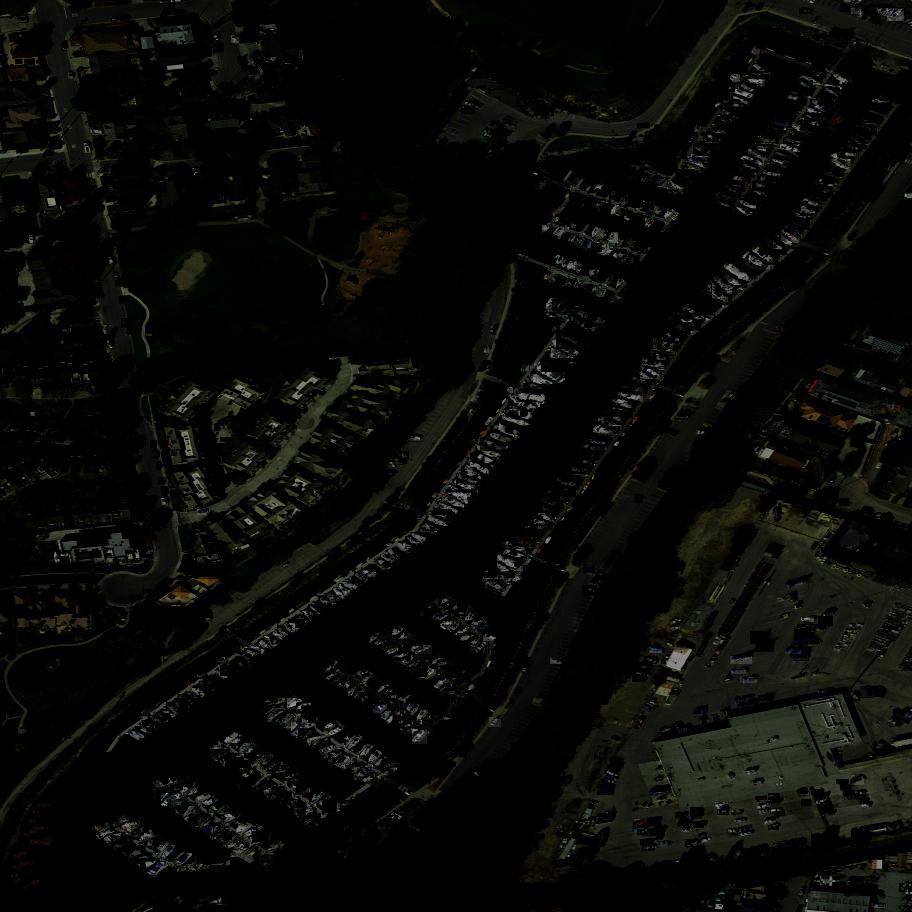large-vehicle: (750, 631, 769, 646), (785, 579, 809, 590), (755, 640, 775, 653), (785, 642, 802, 656), (795, 628, 812, 641), (860, 684, 874, 699), (731, 656, 752, 665), (791, 648, 808, 659), (793, 637, 812, 645), (740, 703, 759, 711), (873, 686, 884, 698), (735, 697, 751, 705), (793, 655, 809, 662), (731, 669, 747, 676), (741, 677, 757, 684), (758, 695, 773, 702), (693, 710, 706, 713)
ship: (257, 691, 299, 714), (574, 306, 610, 329), (725, 260, 755, 286), (704, 281, 733, 306), (534, 362, 565, 385), (556, 329, 587, 352), (499, 412, 534, 432), (751, 242, 779, 267), (466, 456, 495, 480), (509, 393, 539, 415), (570, 313, 599, 335), (674, 309, 701, 332), (760, 235, 788, 257), (452, 478, 481, 499), (551, 339, 581, 359), (80, 752, 110, 772), (713, 274, 736, 299), (153, 773, 186, 790), (476, 444, 504, 463), (827, 110, 850, 133), (668, 315, 692, 337), (442, 492, 467, 513), (683, 304, 708, 325), (742, 252, 771, 270), (497, 554, 522, 574), (490, 560, 516, 579), (320, 657, 341, 680), (608, 401, 633, 420), (426, 514, 452, 532), (481, 575, 506, 593), (723, 273, 748, 291), (527, 514, 553, 531), (480, 437, 506, 454), (437, 502, 464, 518), (146, 860, 168, 879), (504, 540, 530, 556), (462, 466, 487, 482), (175, 851, 196, 870), (604, 409, 626, 427), (506, 407, 534, 421), (844, 883, 872, 897), (470, 452, 496, 467), (488, 431, 514, 446), (267, 707, 287, 726), (534, 507, 555, 525), (209, 798, 230, 816), (161, 841, 179, 862), (829, 159, 851, 176), (774, 233, 796, 250), (791, 123, 813, 140), (112, 836, 134, 853), (516, 391, 547, 403), (541, 359, 567, 373), (155, 786, 174, 805), (345, 732, 363, 752), (403, 633, 423, 651), (128, 845, 146, 865), (224, 808, 245, 825), (490, 425, 522, 436), (830, 151, 852, 167), (752, 62, 774, 78), (456, 473, 481, 487), (519, 529, 542, 544), (233, 761, 251, 780), (162, 793, 181, 811), (641, 362, 661, 379), (236, 819, 256, 836), (810, 99, 834, 113), (750, 185, 771, 201), (218, 752, 239, 768), (97, 828, 119, 843), (598, 417, 623, 430), (618, 391, 643, 404), (502, 549, 527, 562), (174, 804, 199, 817), (285, 716, 302, 735), (714, 195, 733, 212), (181, 778, 198, 797), (799, 118, 822, 132), (294, 808, 317, 822), (271, 765, 294, 779), (557, 482, 577, 498), (274, 713, 294, 729), (346, 762, 367, 777), (725, 178, 746, 193), (757, 175, 781, 188), (741, 154, 765, 167), (512, 535, 534, 549), (635, 369, 657, 383), (788, 216, 810, 230), (299, 727, 316, 745), (140, 827, 157, 845), (226, 757, 244, 774), (183, 807, 200, 825), (255, 776, 272, 794), (664, 330, 683, 346), (722, 183, 741, 199), (688, 156, 707, 172), (260, 752, 276, 771), (198, 816, 214, 835), (277, 790, 293, 809), (296, 777, 312, 796), (555, 477, 580, 489), (329, 726, 349, 741), (613, 397, 636, 410), (548, 352, 575, 363), (816, 179, 837, 193), (739, 198, 760, 212), (144, 835, 165, 849), (189, 814, 210, 828), (270, 786, 287, 803), (642, 358, 666, 370), (292, 722, 310, 738), (849, 134, 867, 150), (802, 67, 826, 79), (781, 228, 799, 244), (238, 738, 254, 756), (132, 824, 148, 842), (266, 839, 284, 855), (543, 497, 565, 510), (90, 822, 112, 835), (122, 820, 144, 833), (360, 771, 379, 786), (245, 825, 264, 840), (739, 160, 759, 174), (676, 168, 696, 182), (547, 491, 570, 503), (780, 144, 803, 156), (216, 834, 239, 846), (308, 711, 329, 724), (735, 205, 756, 218), (116, 815, 137, 828), (359, 744, 376, 760), (860, 121, 877, 137), (412, 729, 427, 747), (822, 86, 840, 101), (739, 81, 757, 96), (733, 95, 751, 110), (277, 623, 292, 641), (846, 879, 873, 889), (267, 758, 282, 776), (301, 706, 320, 720), (312, 738, 331, 752), (527, 383, 551, 394), (652, 345, 676, 356), (811, 186, 833, 198), (733, 89, 755, 101), (622, 384, 648, 394), (172, 776, 192, 789), (374, 754, 390, 770), (328, 748, 344, 764), (421, 603, 437, 619), (167, 701, 183, 717), (291, 802, 307, 818), (322, 799, 338, 815), (354, 767, 369, 784), (326, 669, 343, 684), (359, 691, 374, 708), (385, 710, 400, 727), (235, 655, 250, 672), (227, 837, 244, 852), (154, 839, 171, 854), (888, 8, 905, 23), (375, 557, 392, 572), (530, 375, 553, 386), (574, 457, 595, 469), (453, 626, 471, 640), (342, 756, 356, 774), (419, 669, 437, 683), (853, 129, 871, 143), (832, 74, 850, 88), (796, 78, 814, 92), (802, 198, 823, 210), (694, 144, 713, 157), (667, 181, 686, 194), (204, 823, 223, 836), (584, 439, 608, 449), (657, 340, 681, 350), (368, 749, 383, 765), (785, 137, 805, 149), (762, 129, 782, 141), (105, 833, 125, 845), (204, 676, 220, 691), (259, 637, 274, 653), (187, 787, 207, 799), (134, 853, 154, 865), (210, 741, 225, 757), (168, 799, 188, 811), (281, 799, 301, 811), (310, 789, 326, 804), (616, 286, 630, 303), (178, 693, 195, 707), (231, 815, 248, 829), (240, 768, 257, 782), (449, 602, 467, 615), (434, 613, 452, 626), (215, 806, 233, 819), (354, 571, 372, 584), (447, 492, 476, 500), (135, 726, 156, 737), (581, 445, 604, 455), (316, 718, 335, 730), (141, 858, 160, 870), (575, 451, 600, 460), (434, 677, 449, 692), (459, 605, 473, 621), (405, 535, 421, 549), (353, 687, 367, 703), (224, 732, 240, 746), (365, 697, 379, 713), (381, 686, 397, 700), (786, 98, 802, 112), (149, 715, 165, 729), (213, 827, 227, 843), (282, 770, 298, 784), (470, 634, 483, 651), (337, 680, 354, 693), (287, 698, 304, 711), (411, 702, 424, 719), (399, 721, 416, 734), (737, 166, 754, 179), (706, 133, 723, 146), (303, 814, 320, 827), (332, 755, 352, 766), (777, 104, 797, 115), (770, 118, 792, 128), (250, 751, 270, 762), (211, 749, 231, 760), (229, 845, 249, 856), (410, 532, 428, 544), (445, 689, 463, 701), (395, 695, 413, 707), (252, 831, 270, 843), (438, 593, 453, 607), (545, 297, 559, 312), (368, 632, 382, 647), (752, 182, 773, 192), (174, 697, 188, 712), (308, 603, 322, 618), (547, 273, 562, 287), (302, 784, 316, 799), (775, 150, 794, 161), (749, 149, 768, 160), (324, 593, 343, 604), (398, 540, 414, 553), (382, 760, 398, 773), (343, 658, 356, 674), (217, 667, 230, 683), (262, 784, 278, 797), (567, 465, 590, 474), (728, 174, 751, 183), (288, 775, 305, 787), (476, 622, 493, 634), (447, 622, 464, 634), (416, 645, 433, 657), (404, 726, 421, 738), (380, 554, 397, 566), (839, 149, 859, 159), (762, 170, 782, 180), (385, 647, 403, 658), (476, 640, 490, 654), (403, 654, 417, 668), (404, 699, 418, 713), (318, 794, 332, 808), (363, 672, 376, 687), (297, 702, 312, 715), (325, 721, 340, 734), (382, 642, 397, 655), (441, 683, 456, 696), (553, 301, 568, 314), (245, 746, 260, 759), (628, 255, 641, 270), (560, 304, 575, 317), (192, 685, 207, 698), (295, 614, 310, 627), (312, 817, 327, 830), (332, 676, 348, 688), (807, 106, 823, 118), (131, 729, 147, 741), (196, 793, 212, 805), (801, 75, 820, 85), (716, 193, 737, 202), (463, 612, 480, 623), (320, 745, 337, 756), (119, 845, 136, 856), (288, 619, 305, 630), (343, 581, 360, 592), (594, 427, 617, 435), (445, 597, 458, 611), (390, 764, 403, 778), (347, 684, 360, 698), (414, 665, 428, 678), (411, 641, 425, 654), (391, 626, 405, 639), (875, 90, 889, 103), (614, 248, 627, 262), (593, 198, 606, 212), (143, 719, 157, 732), (199, 681, 212, 695), (319, 595, 333, 608), (242, 651, 255, 665), (339, 583, 352, 597), (388, 548, 401, 562), (375, 683, 390, 695), (456, 672, 471, 684), (843, 143, 861, 153), (805, 113, 823, 123), (725, 103, 745, 112), (667, 161, 679, 176), (201, 798, 219, 808), (882, 7, 897, 19), (221, 665, 237, 676), (625, 379, 650, 386), (824, 83, 843, 92), (753, 143, 772, 152), (231, 737, 248, 747), (306, 736, 323, 746), (394, 652, 411, 662), (244, 648, 261, 658), (430, 608, 443, 621), (647, 203, 660, 216), (647, 175, 660, 188), (385, 622, 398, 635), (431, 513, 455, 520), (595, 182, 607, 196), (615, 235, 627, 249), (565, 278, 577, 292), (585, 197, 597, 211), (215, 655, 229, 667), (471, 617, 486, 628), (429, 655, 444, 666), (664, 207, 675, 222), (484, 572, 511, 578), (817, 96, 835, 105), (788, 94, 806, 103), (650, 354, 670, 362), (459, 634, 475, 644), (441, 618, 457, 628), (784, 225, 804, 233), (770, 158, 790, 166), (185, 691, 201, 701), (161, 709, 177, 719), (512, 575, 525, 587), (394, 716, 406, 729), (597, 244, 610, 256), (575, 236, 587, 249), (553, 227, 565, 240), (622, 238, 635, 250), (676, 148, 688, 161), (616, 207, 628, 220), (646, 218, 658, 231), (437, 660, 451, 671), (417, 709, 428, 723), (586, 181, 597, 195), (340, 800, 354, 811), (406, 662, 423, 671), (860, 119, 879, 127), (872, 99, 891, 107), (746, 79, 765, 87), (374, 639, 389, 649), (398, 632, 413, 642), (252, 645, 267, 655), (606, 247, 618, 259), (543, 225, 555, 237), (561, 216, 573, 228), (567, 261, 579, 273), (737, 65, 749, 77), (694, 125, 706, 137), (656, 177, 668, 189), (631, 213, 643, 225), (300, 611, 316, 620), (333, 588, 345, 600), (280, 843, 292, 855), (362, 569, 378, 578), (545, 311, 558, 322), (569, 219, 580, 232), (598, 231, 611, 242), (610, 189, 621, 202), (285, 622, 296, 635), (374, 704, 388, 714), (608, 231, 618, 245), (634, 169, 644, 183), (264, 635, 278, 645), (756, 137, 779, 143), (537, 506, 554, 514), (354, 671, 371, 679), (711, 128, 728, 136), (387, 693, 402, 702), (271, 632, 286, 641), (691, 153, 710, 160), (792, 132, 804, 143), (592, 242, 603, 254), (560, 258, 571, 270), (575, 264, 586, 276), (589, 270, 601, 281), (713, 100, 724, 112), (196, 669, 207, 681), (483, 632, 496, 642), (569, 233, 579, 246), (550, 322, 560, 335), (593, 226, 603, 239), (655, 206, 665, 219), (626, 166, 636, 179), (138, 709, 151, 719), (379, 710, 395, 718), (155, 714, 171, 722), (795, 213, 813, 220), (702, 141, 720, 148), (610, 204, 619, 218), (570, 192, 581, 203), (751, 46, 762, 57), (731, 74, 742, 85), (640, 216, 651, 227), (576, 196, 588, 206), (574, 280, 584, 292), (619, 192, 629, 204), (641, 162, 653, 172), (876, 7, 891, 15), (687, 136, 699, 146), (808, 195, 825, 202), (800, 208, 817, 215), (623, 252, 632, 265), (607, 274, 616, 287), (642, 171, 651, 184), (440, 717, 454, 725), (187, 868, 203, 875), (524, 527, 546, 532), (423, 718, 434, 728), (639, 244, 649, 255), (633, 198, 643, 209), (232, 644, 242, 655), (720, 91, 730, 102), (557, 277, 568, 287), (584, 240, 593, 252), (626, 196, 635, 208), (641, 201, 650, 213), (720, 116, 735, 123), (616, 278, 624, 291), (766, 126, 783, 132), (631, 242, 641, 252), (580, 285, 590, 295), (453, 669, 464, 678), (665, 190, 679, 197), (724, 111, 740, 117), (556, 214, 564, 226), (599, 287, 607, 299), (456, 694, 468, 702), (682, 166, 701, 171), (727, 83, 736, 93), (750, 74, 770, 78), (469, 439, 478, 447), (593, 284, 600, 294), (167, 867, 177, 874), (210, 866, 221, 872), (507, 387, 515, 395), (523, 564, 530, 573), (421, 526, 439, 529), (374, 779, 383, 784), (491, 649, 497, 656), (453, 702, 458, 709), (522, 366, 529, 371), (238, 784, 243, 790), (231, 858, 238, 862), (654, 339, 658, 343)
small-vehicle: (489, 716, 502, 730), (583, 585, 598, 597), (597, 785, 613, 796), (851, 775, 865, 787), (393, 454, 407, 466), (818, 616, 833, 627), (492, 138, 507, 149), (849, 689, 862, 701), (666, 427, 679, 439), (691, 807, 704, 818), (610, 759, 623, 770), (764, 817, 779, 826), (650, 828, 665, 837), (811, 833, 822, 845), (356, 863, 367, 875), (201, 612, 212, 624), (893, 708, 904, 720), (604, 774, 617, 784), (685, 839, 698, 849), (635, 819, 648, 829), (889, 717, 902, 727), (645, 656, 658, 666), (462, 105, 475, 115), (816, 797, 830, 806), (209, 898, 223, 907), (749, 847, 760, 858), (584, 564, 595, 575), (338, 849, 349, 860), (333, 852, 344, 863), (707, 853, 717, 865), (395, 451, 410, 459), (844, 793, 857, 802), (819, 801, 832, 810), (640, 839, 653, 848), (411, 825, 424, 834), (466, 101, 479, 110), (757, 802, 771, 810), (607, 765, 621, 773), (408, 435, 422, 443), (736, 850, 746, 861), (900, 883, 910, 894), (475, 771, 486, 781), (367, 827, 377, 838), (534, 110, 544, 121), (142, 588, 152, 599), (392, 811, 404, 820), (379, 819, 391, 828), (83, 142, 92, 154), (699, 837, 712, 845), (872, 893, 885, 901), (798, 624, 811, 632), (632, 675, 645, 683), (247, 71, 260, 79), (774, 842, 784, 852), (410, 797, 420, 807), (840, 497, 850, 507), (840, 4, 850, 14), (699, 855, 708, 866), (126, 412, 135, 423), (546, 106, 555, 117), (540, 110, 551, 119), (873, 15, 882, 26), (223, 84, 232, 95), (715, 802, 729, 809), (649, 647, 663, 654), (90, 129, 104, 136), (391, 458, 403, 466), (740, 831, 753, 838), (799, 837, 808, 847), (802, 799, 812, 808), (129, 432, 138, 442), (122, 318, 131, 328), (161, 497, 170, 507), (851, 8, 861, 17), (246, 79, 255, 89), (232, 35, 241, 45), (769, 824, 780, 832), (694, 857, 702, 868), (603, 779, 614, 787), (769, 793, 780, 801), (681, 827, 692, 835), (638, 830, 649, 838), (774, 811, 785, 819), (883, 415, 891, 426), (636, 670, 647, 678), (241, 65, 252, 73), (643, 845, 655, 852), (386, 815, 398, 822), (606, 771, 618, 778), (129, 595, 141, 602), (407, 801, 416, 810), (132, 441, 141, 450), (635, 495, 644, 504), (212, 34, 221, 43), (781, 841, 789, 851), (533, 798, 543, 806), (519, 819, 529, 827), (152, 448, 160, 458), (893, 404, 901, 414), (108, 257, 116, 267), (872, 903, 885, 909), (802, 618, 815, 624), (818, 690, 831, 696), (383, 817, 394, 824), (375, 823, 386, 830), (396, 838, 407, 845), (198, 509, 209, 516), (858, 10, 865, 21), (851, 832, 859, 841), (550, 658, 562, 664), (760, 844, 767, 854), (692, 813, 702, 820), (595, 753, 605, 760), (697, 430, 711, 435), (241, 83, 248, 93), (175, 10, 185, 17), (694, 822, 705, 828), (797, 788, 808, 794), (837, 779, 848, 785), (647, 818, 660, 823), (150, 440, 158, 448), (215, 43, 223, 51), (159, 477, 166, 486), (105, 326, 112, 335), (237, 57, 244, 66), (717, 810, 729, 815), (855, 791, 867, 796), (657, 842, 669, 847), (385, 470, 395, 476), (486, 150, 496, 156), (814, 17, 820, 27), (119, 16, 129, 22), (18, 18, 28, 24), (67, 72, 74, 80), (95, 282, 102, 290), (125, 328, 132, 336), (739, 828, 750, 833), (726, 829, 737, 834), (735, 818, 746, 823), (755, 796, 766, 801), (873, 513, 886, 517), (611, 552, 621, 557), (678, 412, 690, 416), (30, 235, 36, 243), (37, 591, 43, 599), (270, 108, 276, 116), (244, 114, 250, 122), (862, 804, 871, 809), (819, 807, 834, 810), (80, 213, 85, 222), (759, 810, 770, 814), (800, 9, 811, 13), (832, 833, 838, 840), (161, 487, 168, 493), (523, 666, 529, 673), (676, 813, 686, 817), (678, 822, 691, 825), (637, 124, 650, 127), (800, 887, 804, 896), (473, 777, 485, 780), (841, 785, 850, 789), (115, 360, 120, 367), (62, 42, 67, 49), (98, 205, 103, 212), (119, 297, 124, 304), (731, 811, 742, 814), (811, 790, 822, 793), (858, 798, 869, 801), (648, 823, 659, 826), (640, 667, 651, 670), (843, 790, 851, 794), (490, 327, 495, 333), (113, 273, 119, 278), (214, 427, 229, 429), (221, 438, 231, 441), (192, 169, 198, 174), (98, 292, 103, 298), (485, 346, 489, 353), (157, 462, 161, 469), (772, 810, 781, 813), (676, 416, 688, 418), (115, 280, 119, 286), (798, 793, 809, 795), (858, 796, 865, 799), (527, 810, 536, 812), (108, 340, 111, 346), (681, 818, 689, 820)
